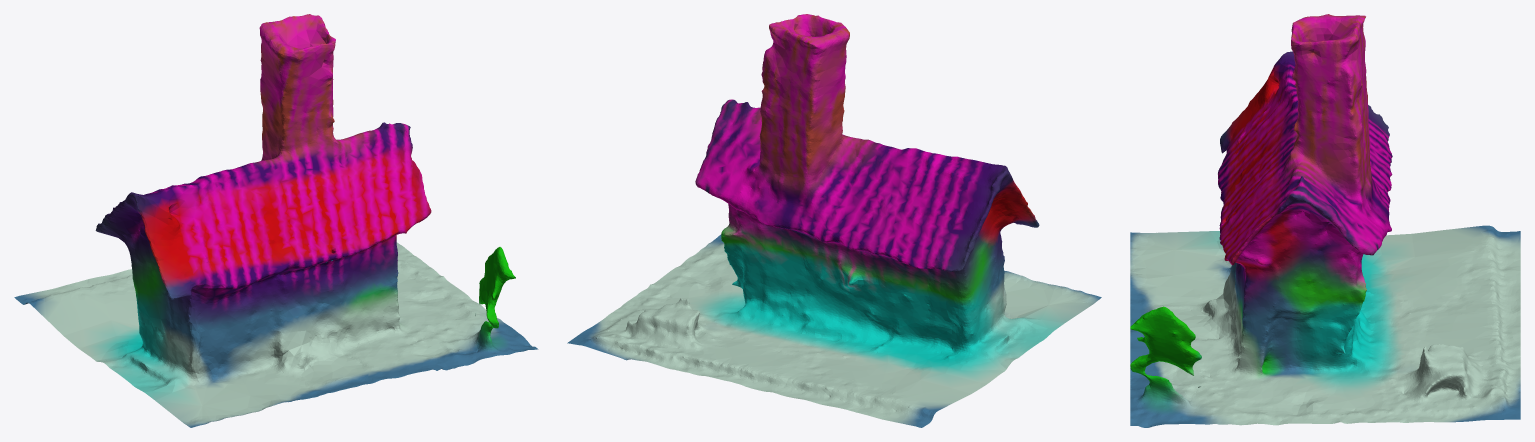
The model's file is color_191108_akt1_2.glb.
The picture shows the model from 3 angles, left to right: view 1: azimuth 30°, elevation 25°; view 2: azimuth 150°, elevation 25°; view 3: azimuth 270°, elevation 25°; orthographic projection. The views are drawn at different scales.
Parts seen in each view (by area): view 1: base_191108_akt1; view 2: base_191108_akt1; view 3: base_191108_akt1.
Part boxes in pixels (x1,y1,x2,y2): base_191108_akt1: (14,14,538,427); base_191108_akt1: (567,14,1101,427); base_191108_akt1: (1130,14,1520,427).
Size of the model in its own units: 7.35 by 5.95 by 6.48.
